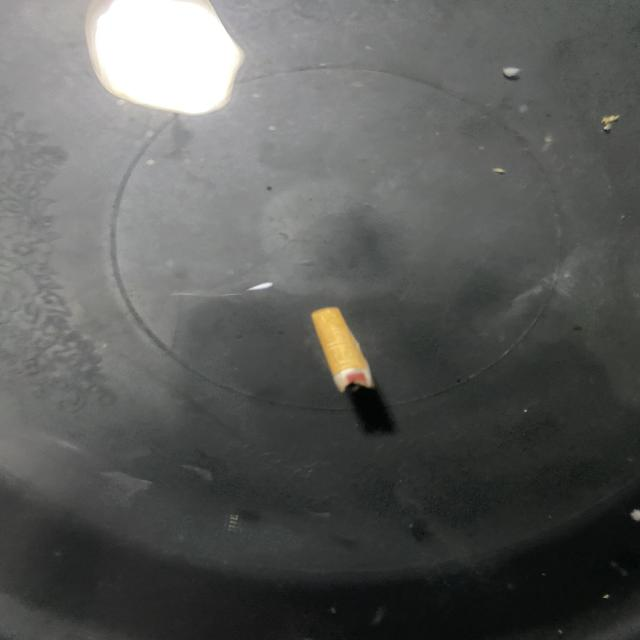Cigarette Filter: (290, 288, 397, 416)
